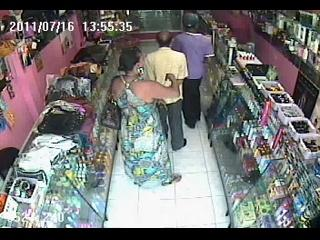Normal: (106, 47, 182, 188), (144, 30, 188, 152), (170, 15, 216, 128)
